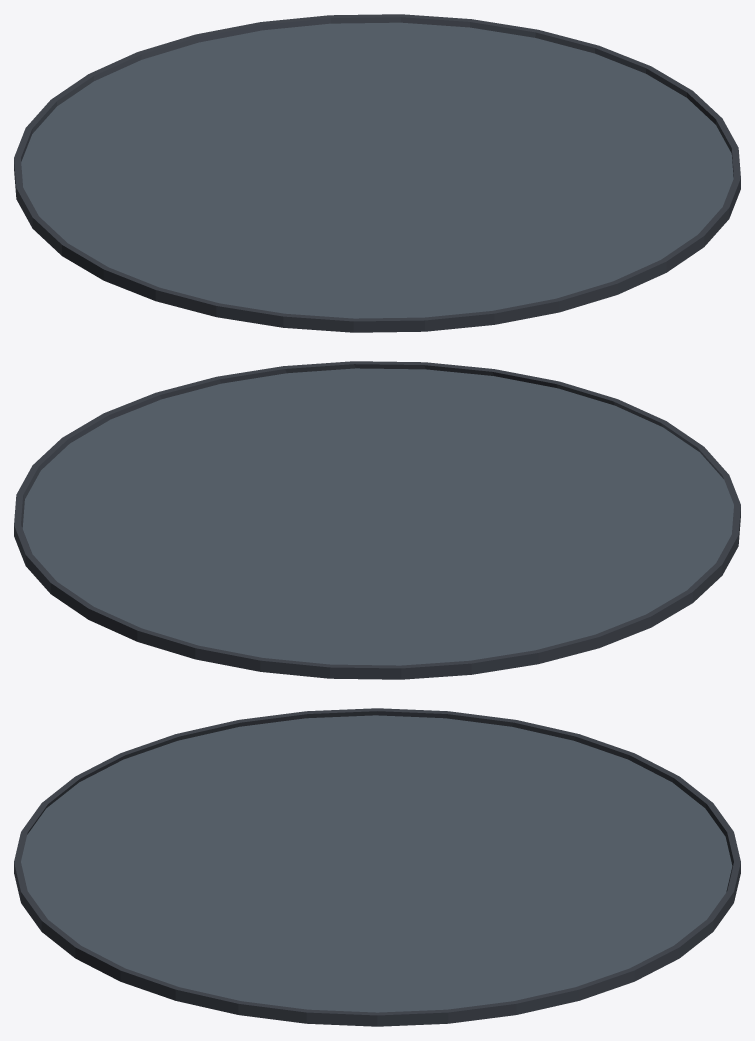
File: parkcenter.fbx
3 views of the same model, one above another, from view 1: azimuth 30°, elevation 25°; view 2: azimuth 150°, elevation 25°; view 3: azimuth 270°, elevation 25° (orthographic).
Parts seen in each view (by area): view 1: Cylinder; view 2: Cylinder; view 3: Cylinder.
Boxes of the visible parts, x1=… form: Cylinder: x1=14, y1=14, x2=740, y2=332; Cylinder: x1=14, y1=361, x2=740, y2=679; Cylinder: x1=14, y1=708, x2=740, y2=1026.
Bounding box in the file's own units: 1287 × 22 × 1287.
